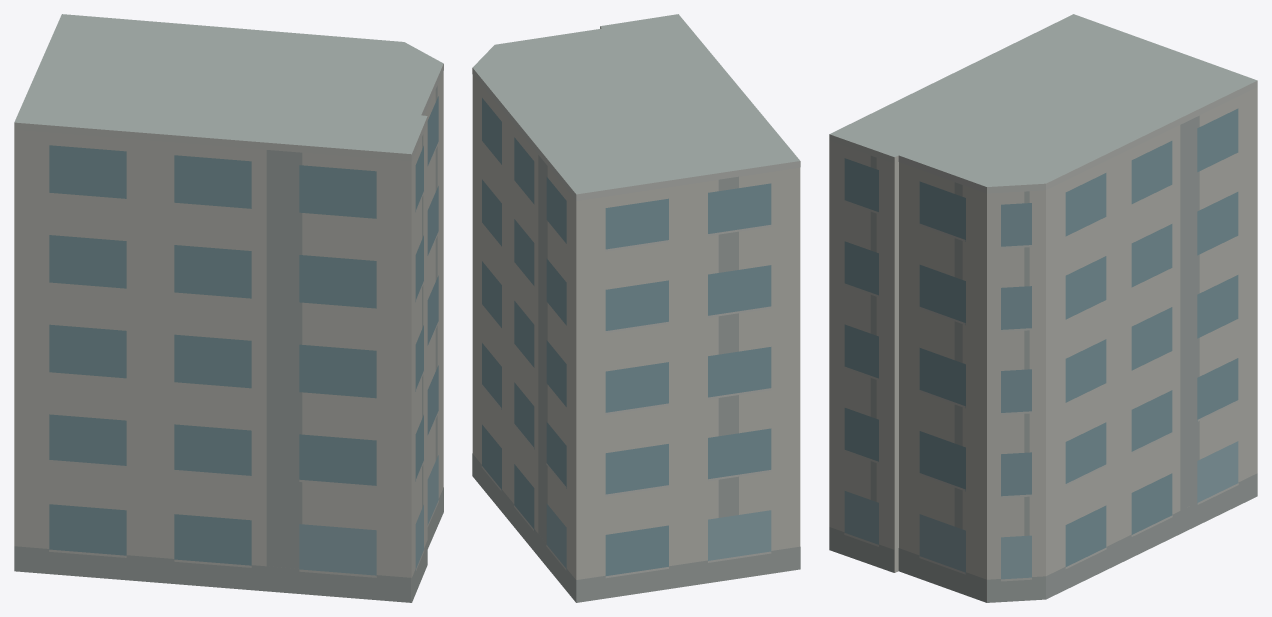
The model's file is survey-upis-32766792.glb.
3 views of the same model, side by side, from view 1: azimuth 30°, elevation 25°; view 2: azimuth 150°, elevation 25°; view 3: azimuth 270°, elevation 25° (orthographic). The views are drawn at different scales.
Parts seen in each view (by area): view 1: survey-upis-32766792.tmp; view 2: survey-upis-32766792.tmp; view 3: survey-upis-32766792.tmp.
Part boxes in pixels (x1,y1,x2,y2): survey-upis-32766792.tmp: (14,14,443,602); survey-upis-32766792.tmp: (472,14,800,602); survey-upis-32766792.tmp: (829,14,1257,602).
Size of the model in its own units: 13.58 by 15.2 by 14.2.
